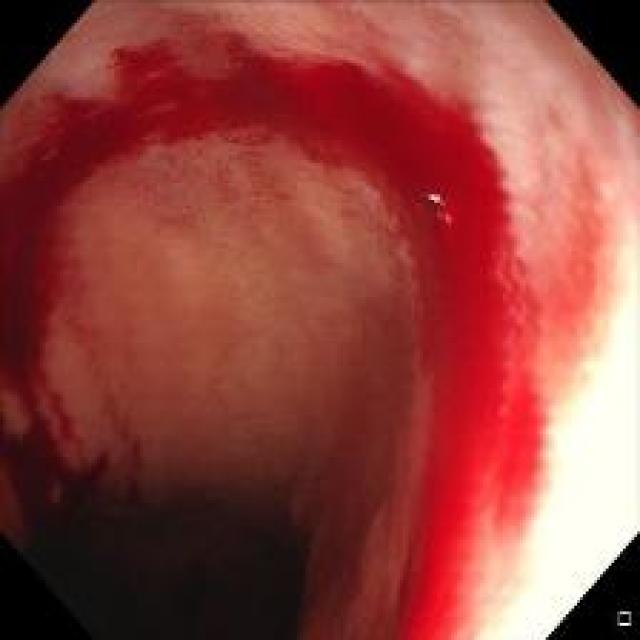blood: (386, 102, 556, 635), (104, 38, 442, 185), (0, 54, 109, 396), (0, 385, 141, 540)
color misalignment: (419, 186, 451, 214)
contrast: (12, 482, 308, 628)
saturation: (504, 236, 634, 624)
specularity: (418, 186, 455, 216)
